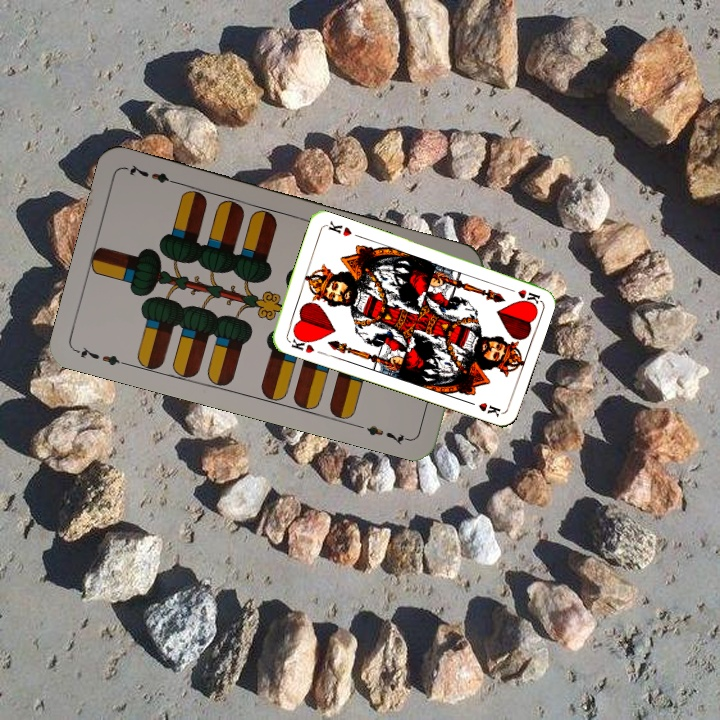E7: (72, 342, 131, 369)
HK: (501, 283, 542, 306), (287, 331, 317, 356)
